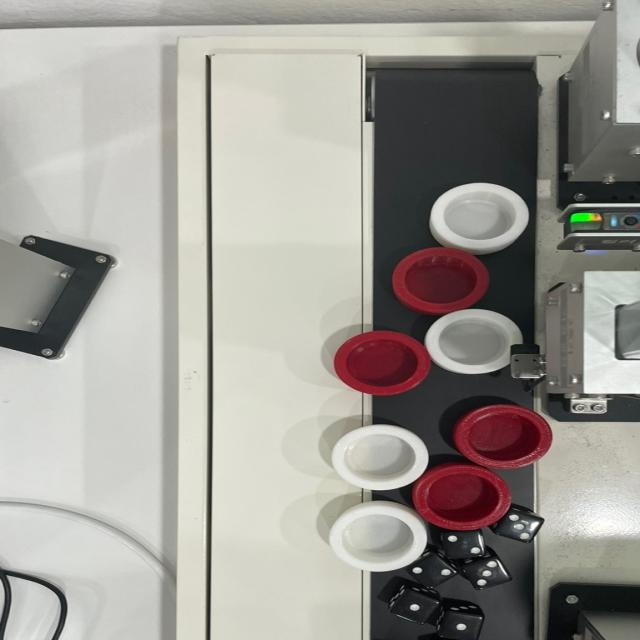DICE1: (388, 590, 440, 626), (437, 611, 487, 640)
DICE2: (407, 554, 460, 589), (440, 531, 484, 560)
DICE3: (463, 555, 514, 592), (494, 510, 542, 543)
RedChip: (414, 465, 512, 529), (332, 330, 427, 396), (454, 406, 552, 468), (396, 247, 492, 310)
WhiteChip: (425, 308, 525, 374), (328, 507, 427, 572), (433, 183, 531, 248), (334, 425, 427, 490)
